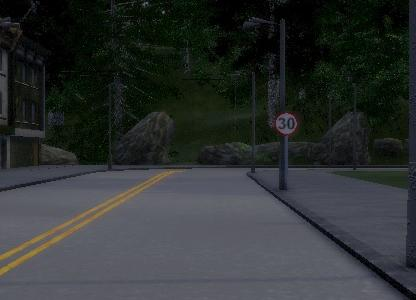Speed_30: (275, 110, 298, 136)
